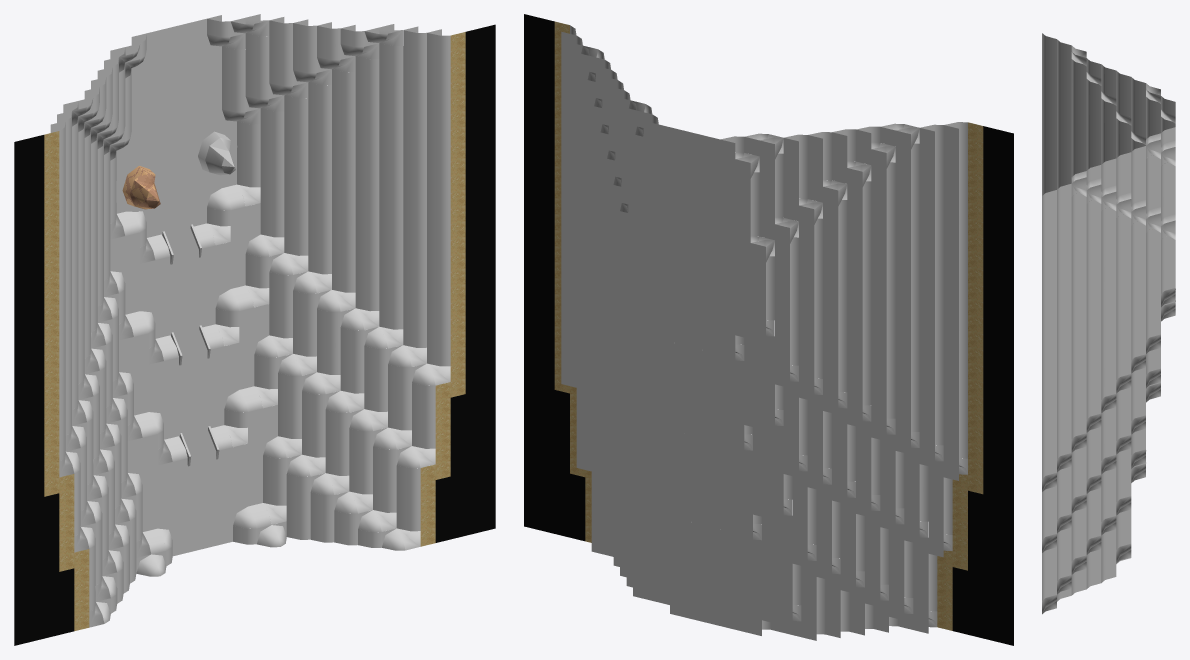
The model's file is Subterranean-Cave-1_00_01.obj.
3 views of the same model, side by side, from view 1: azimuth 30°, elevation 25°; view 2: azimuth 150°, elevation 25°; view 3: azimuth 270°, elevation 25° (orthographic). The views are drawn at different scales.
Parts seen in each view (by area): view 1: map; view 2: map; view 3: map.
Boxes of the visible parts, x1=… form: map: x1=14, y1=14, x2=495, y2=645; map: x1=524, y1=14, x2=1013, y2=645; map: x1=1042, y1=33, x2=1175, y2=614.
Size of the model in its own units: 32 by 32 by 9.01.
